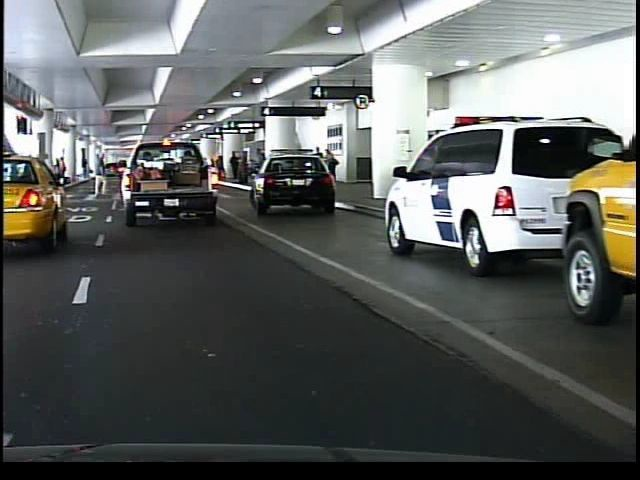person: (87, 152, 109, 199)
